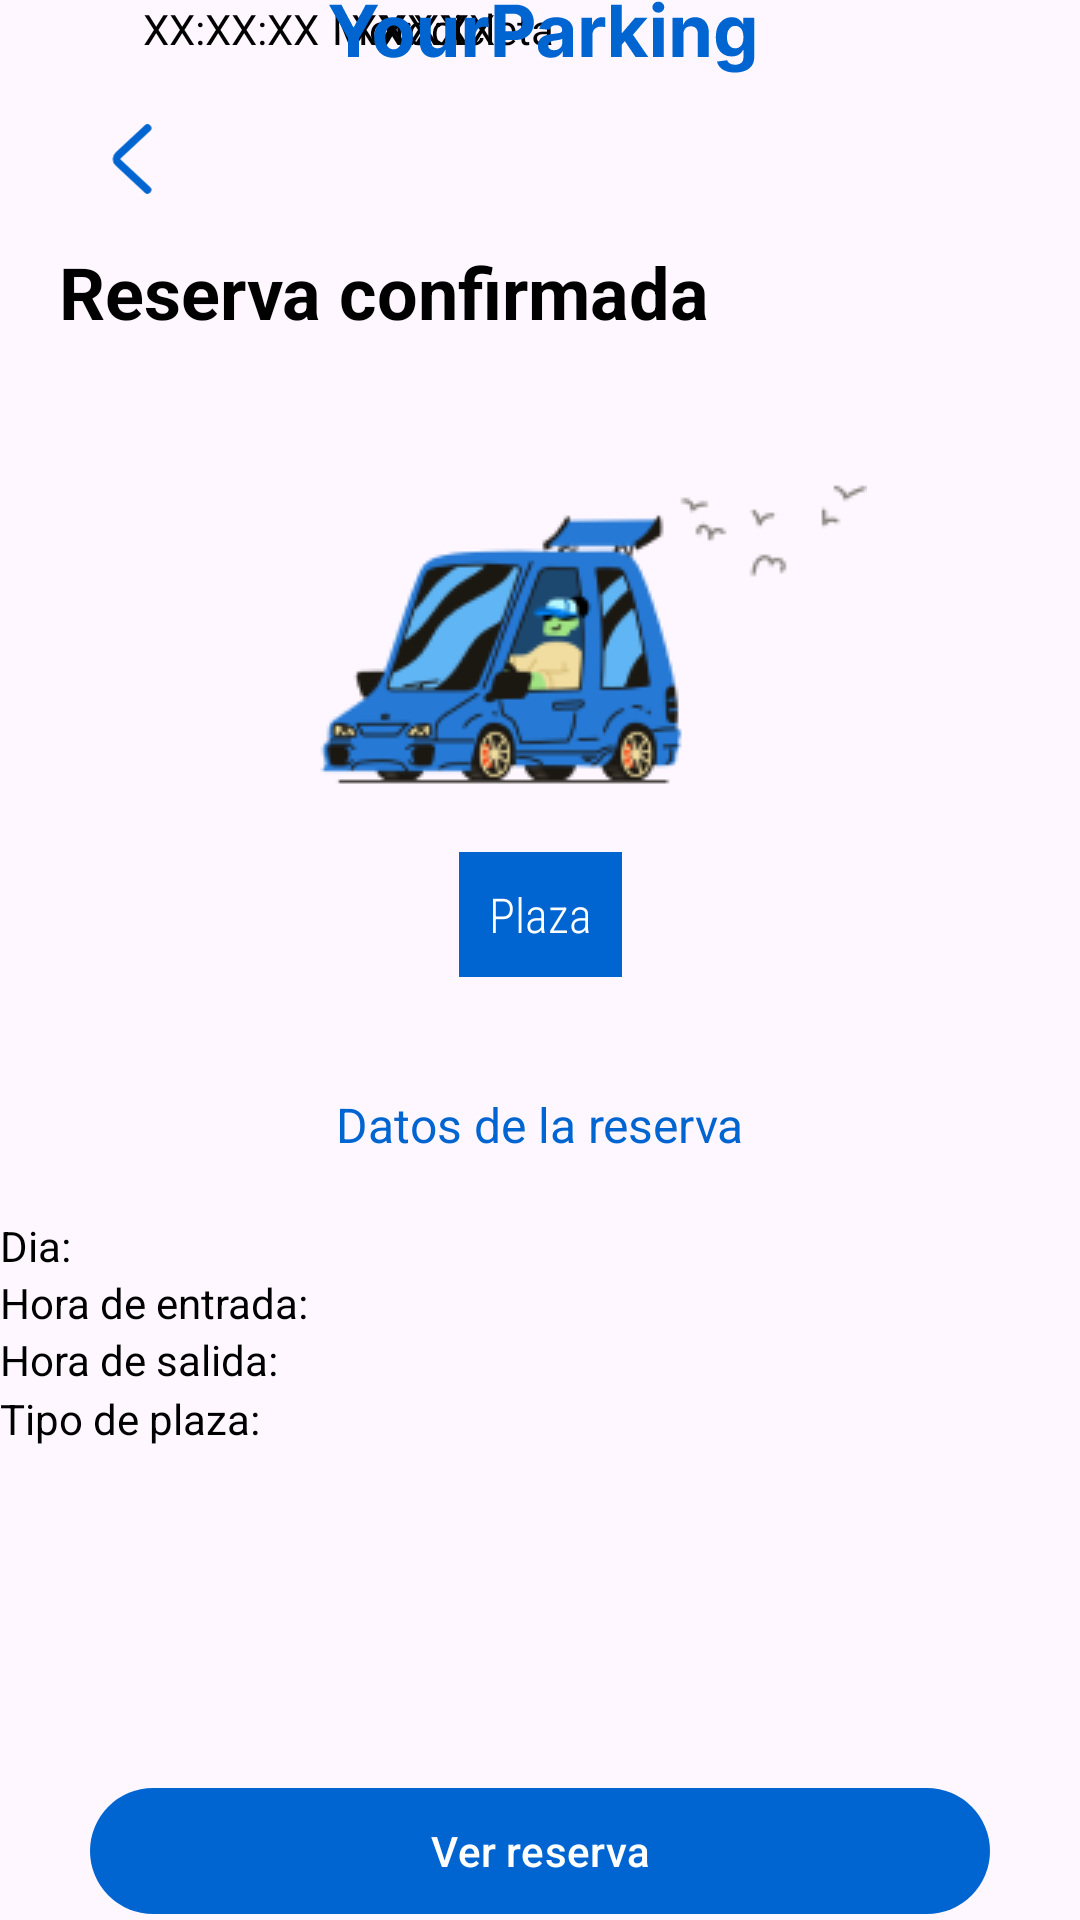

Screen size 1080px x 1920px. Icon name, then its center in pixels as (x=x, y=y):
atras: (x=132, y=159)
